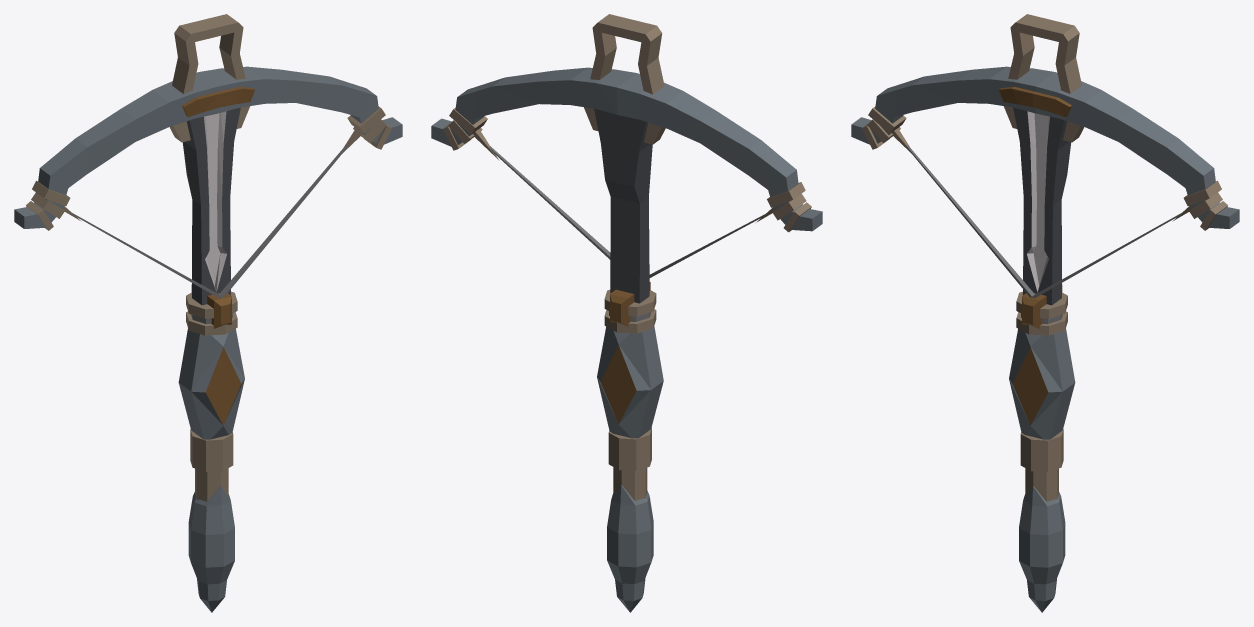
File: _crossbow_13.glb
3 renders of one model, left to right at view 1: azimuth 30°, elevation 25°; view 2: azimuth 150°, elevation 25°; view 3: azimuth 330°, elevation 25°, orthographic.
Visible parts, largest first — view 1: crossbow_13; view 2: crossbow_13; view 3: crossbow_13.
Boxes of the visible parts, <box> form: crossbow_13: <box>14,14,402,612</box>; crossbow_13: <box>431,14,822,612</box>; crossbow_13: <box>851,14,1239,612</box>.
Size of the model in its own units: 21269 by 31503 by 2680.
Materials: 1 (1 with a texture image).
